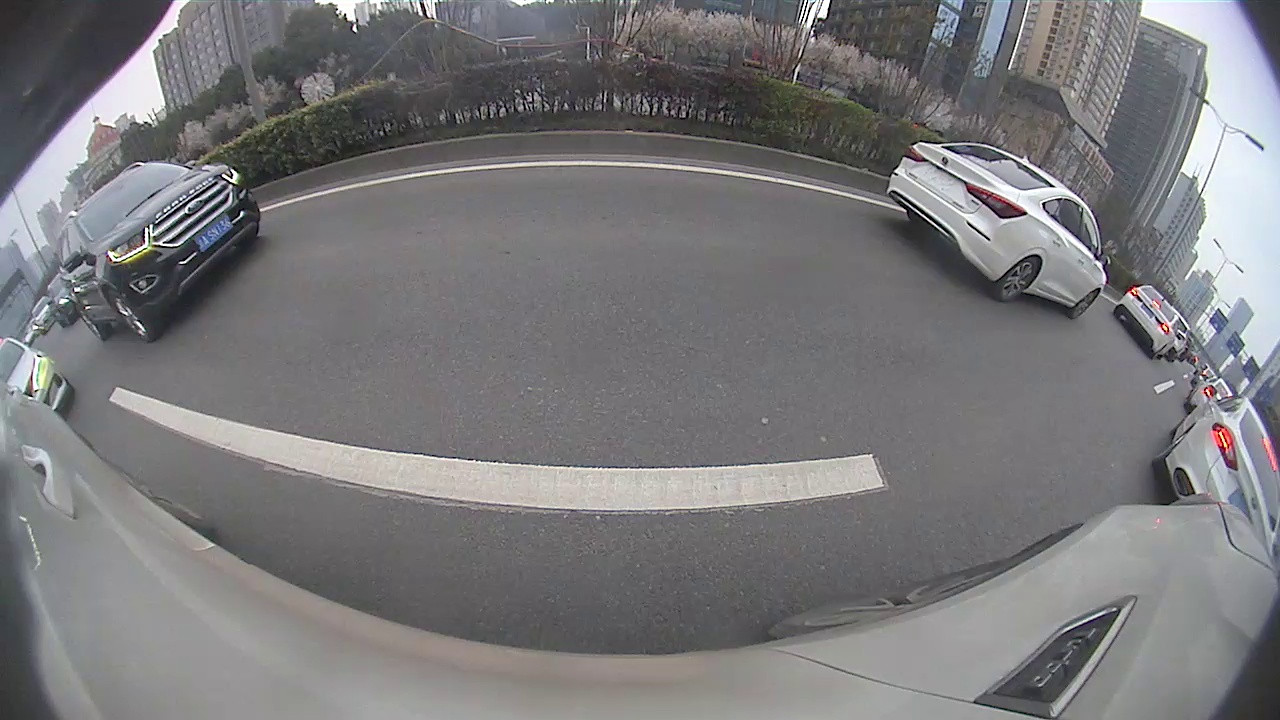car: (11, 237, 309, 429), (285, 218, 361, 260), (541, 158, 581, 188), (481, 176, 510, 198), (460, 181, 482, 199)
front: (263, 253, 300, 296)
rear: (87, 352, 142, 425), (308, 244, 322, 261)
